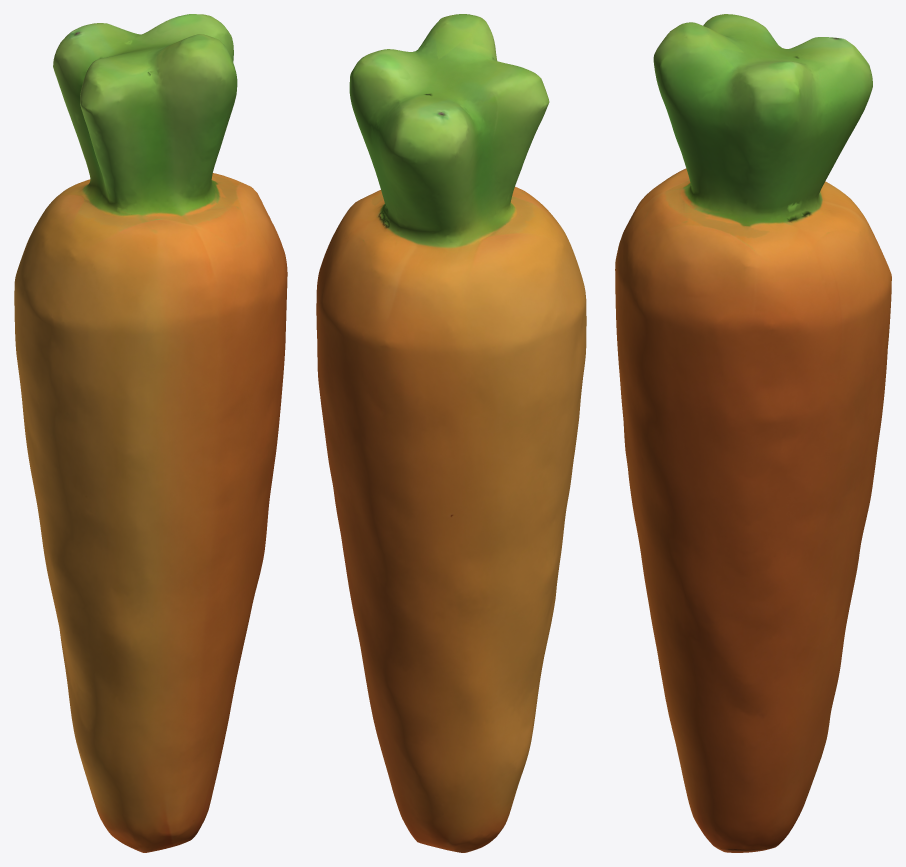
The model's file is carot_0524221015.glb.
3 views of the same model, side by side, from view 1: azimuth 30°, elevation 25°; view 2: azimuth 150°, elevation 25°; view 3: azimuth 270°, elevation 25° (orthographic). The views are drawn at different scales.
Bounding box in the file's own units: 0.3671 × 1.2 × 0.3658.
1 material, 1 textured.
